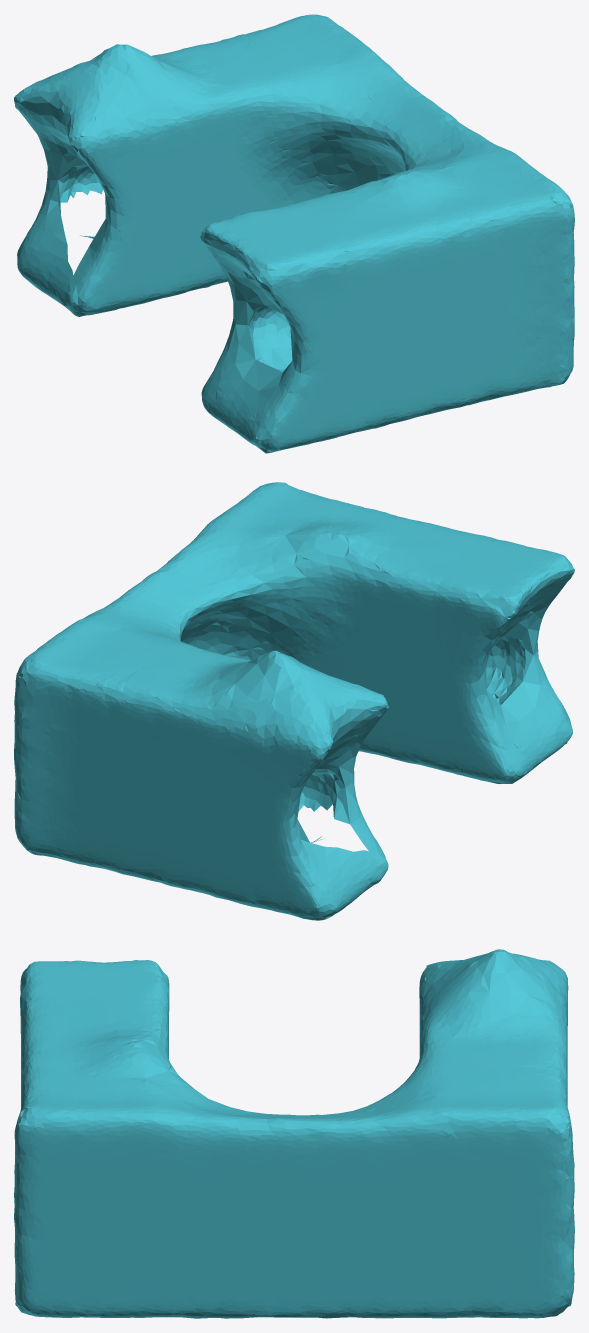
3 views of the same model, one above another, from view 1: azimuth 30°, elevation 25°; view 2: azimuth 150°, elevation 25°; view 3: azimuth 270°, elevation 25° (orthographic). The views are drawn at different scales.
Visible parts, largest first — view 1: Renderer Node; view 2: Renderer Node; view 3: Renderer Node.
Boxes of the visible parts, box(x1,y1,x2,y2) form: Renderer Node: box(14, 14, 574, 453); Renderer Node: box(14, 482, 574, 920); Renderer Node: box(14, 949, 574, 1318).
Bounding box in the file's own units: 0.5363 × 0.381 × 0.772.
Materials: 1 (1 with a texture image).
